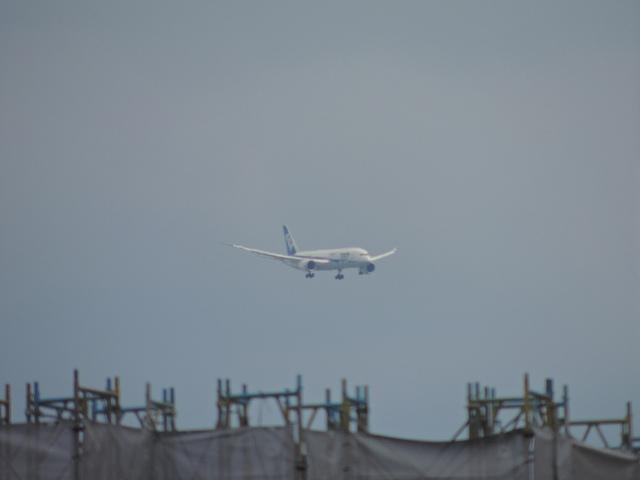airplane: (227, 223, 399, 282)
